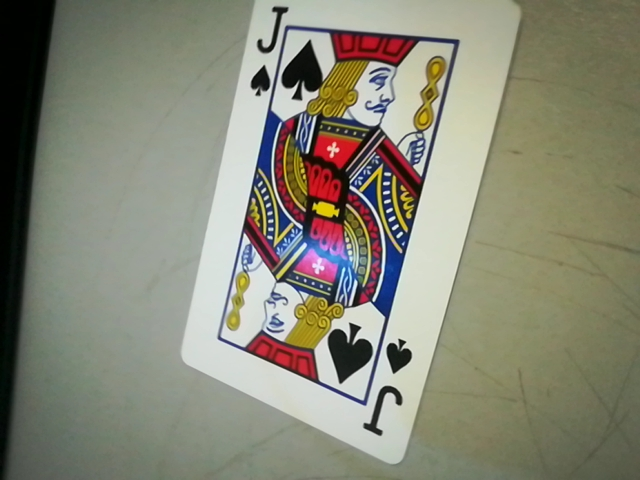ht j: (361, 331, 415, 449)
